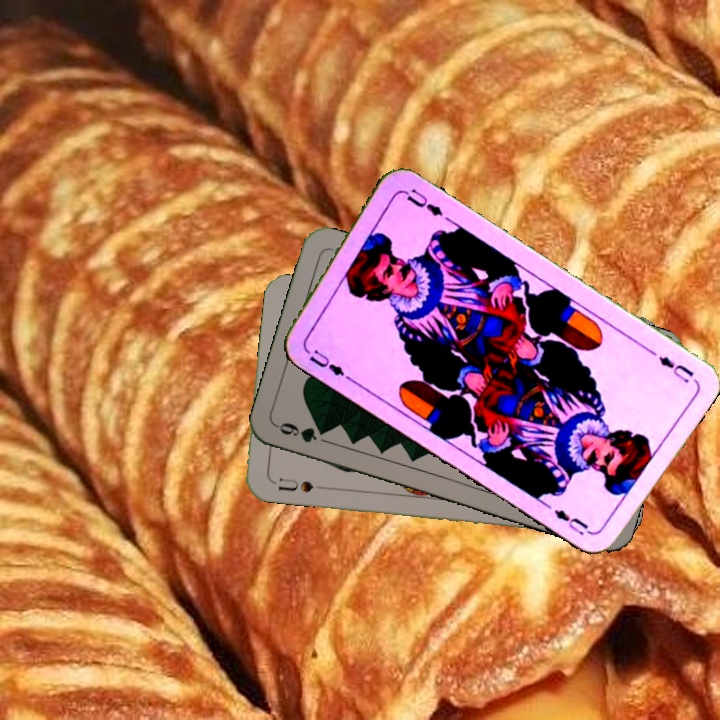EU: (305, 345, 352, 382), (654, 352, 696, 386)
G9: (273, 418, 320, 446)
SU: (268, 474, 327, 495)
